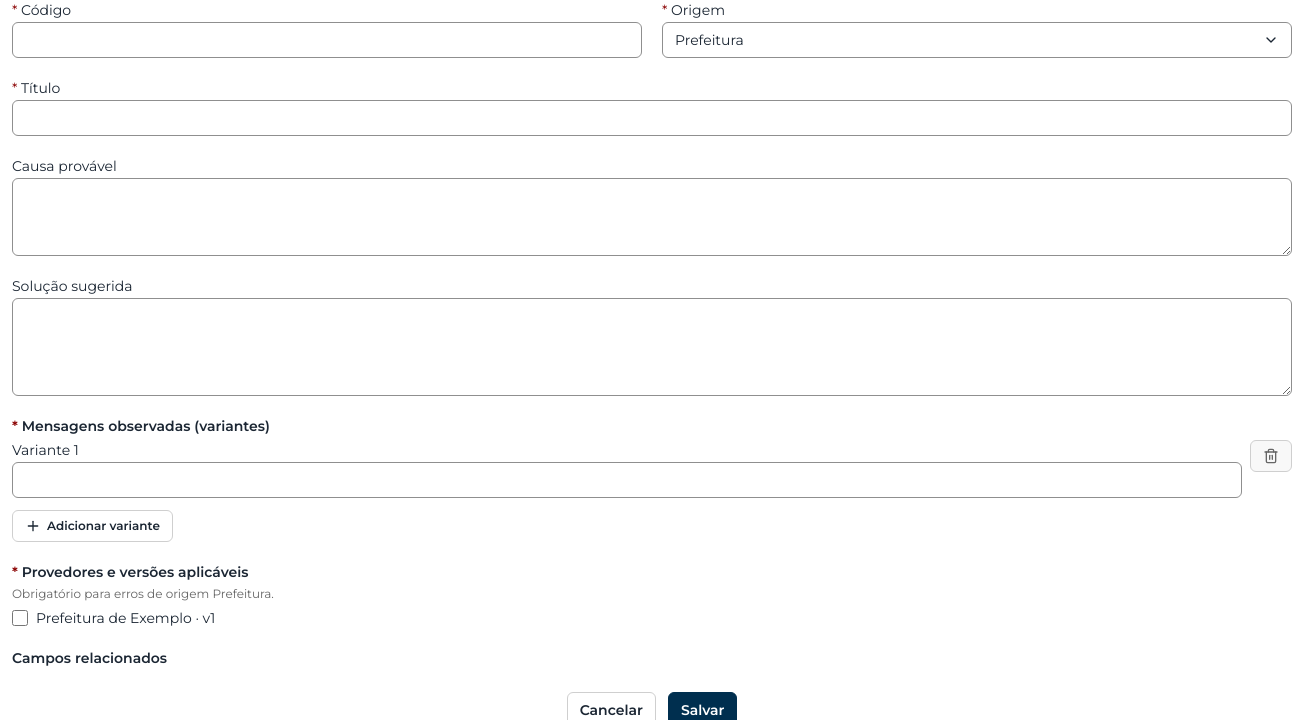
it: ErroForm › trocar de Prefeitura para InvoiCy com o campo vazio não deixa erro retroativo
Type "E0117" into the field labelled "* Código" at (327, 40), box [12, 22, 642, 58]
Type "CNPJ inválido" into the field labelled "* Título" at (652, 118), box [12, 100, 1292, 136]
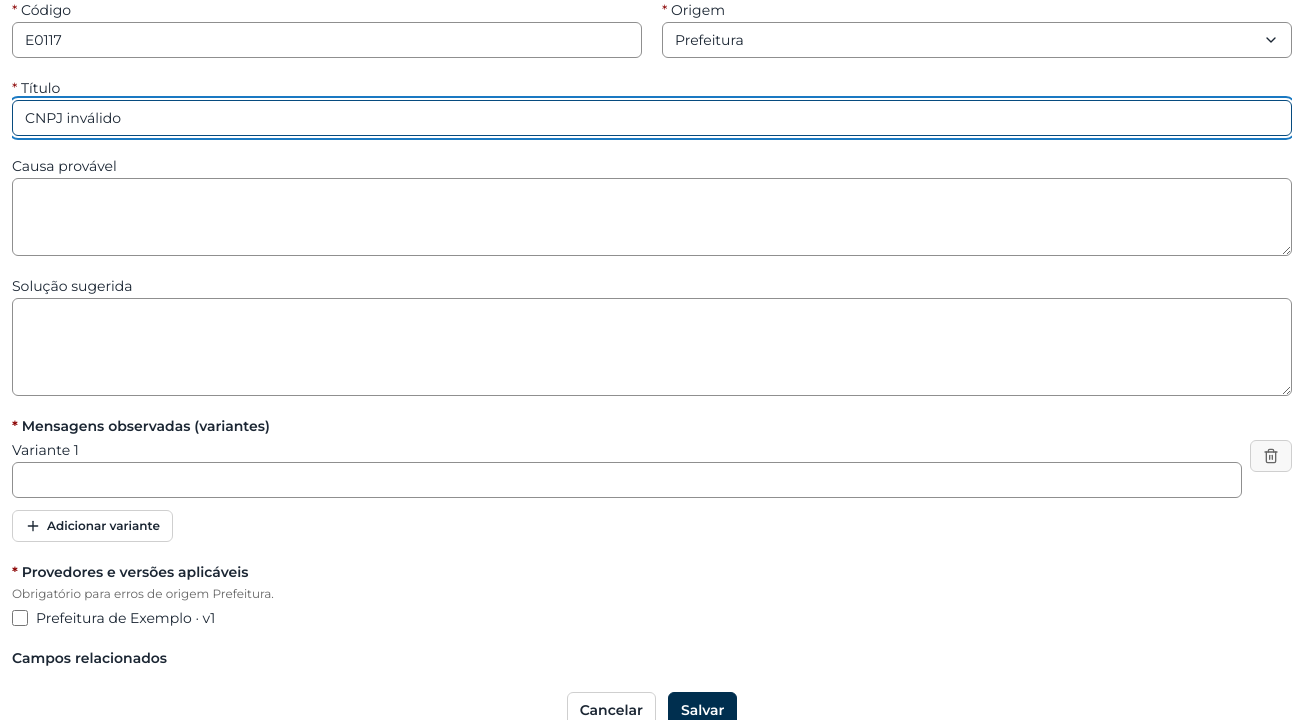
Type "O CNPJ informado não é válido." into the field labelled "Variante 1" at (627, 480), box [12, 462, 1242, 498]
(page scrolled)
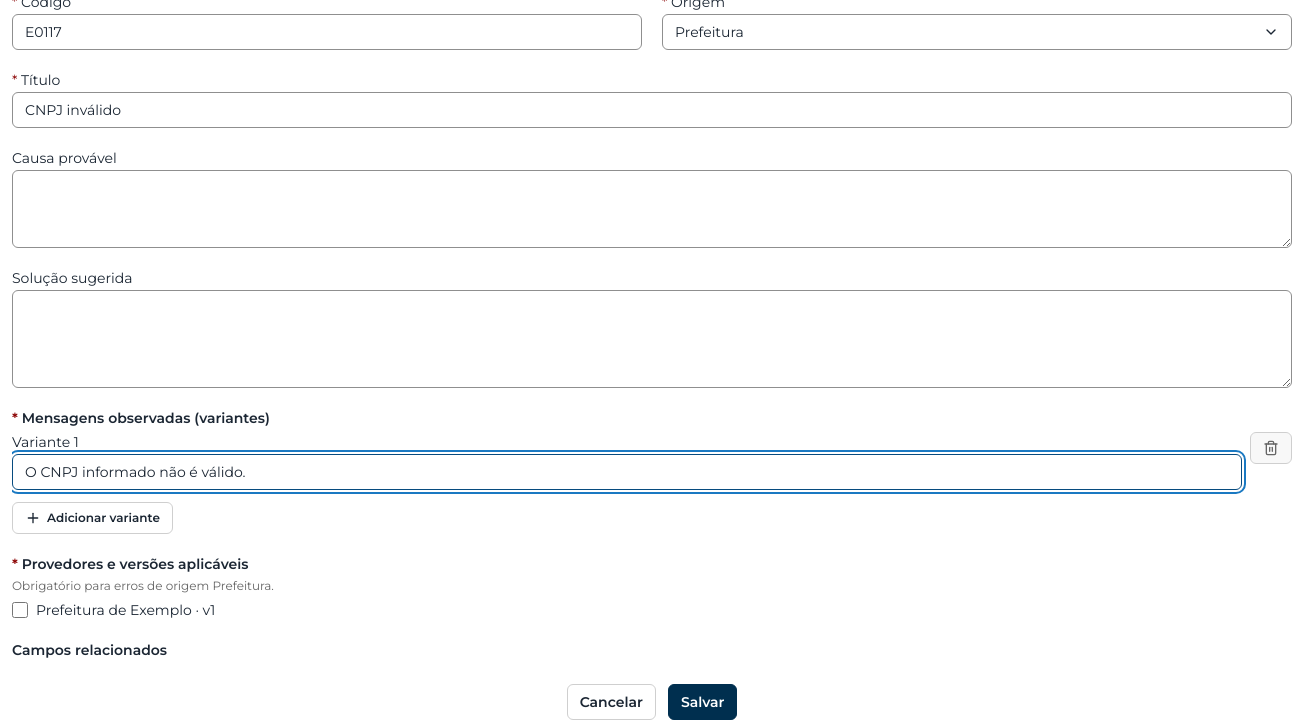
Click the button "Salvar" at (703, 702), box [668, 684, 737, 719]
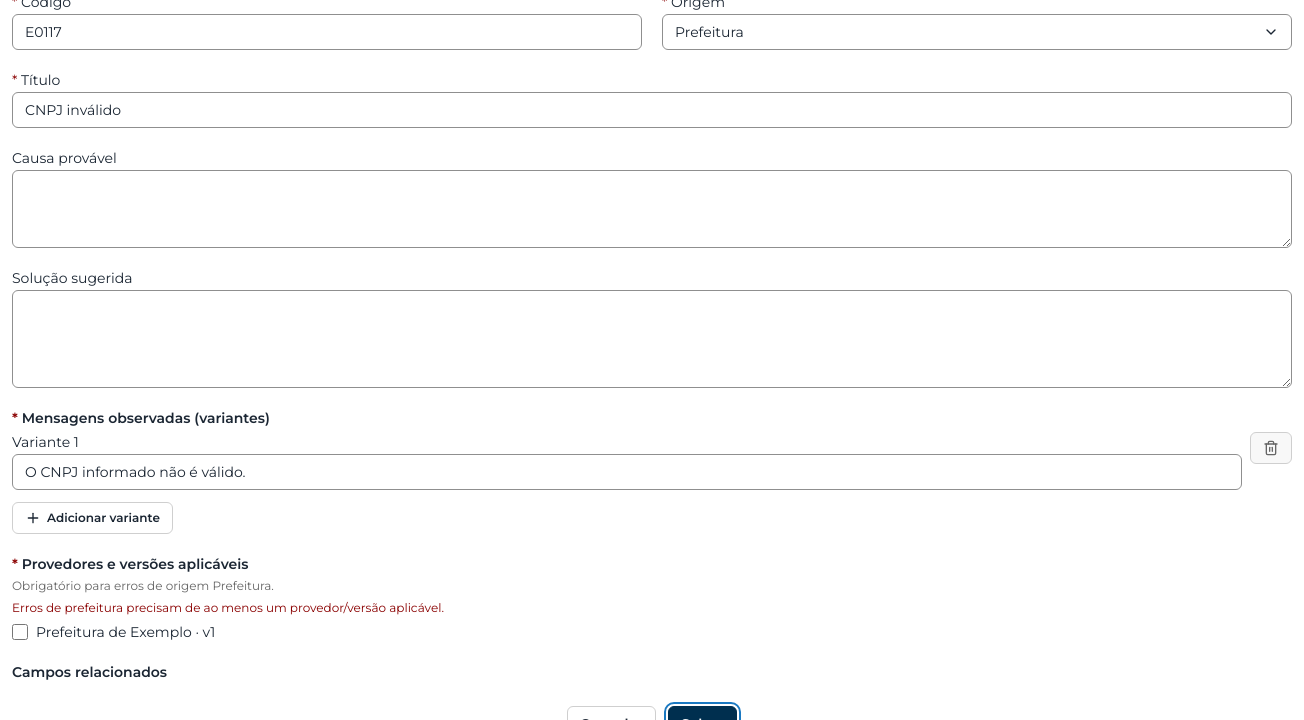
Check: the text "Erros de prefeitura precisam de ao menos um provedor/versão aplicável." is shown, box [12, 600, 444, 615]
Click the dropdown named "origem" at (709, 32), box [662, 14, 1292, 50]
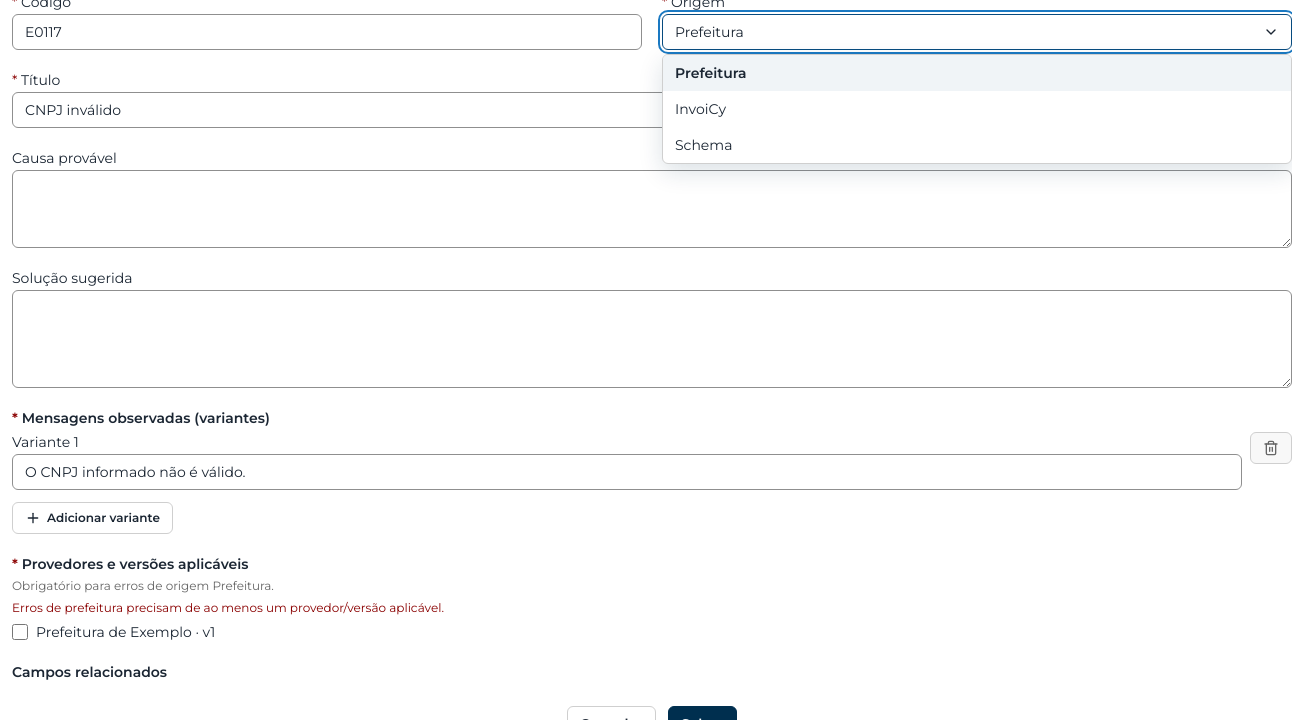
Click the option "InvoiCy" at (700, 109), box [675, 100, 726, 118]
(page scrolled)
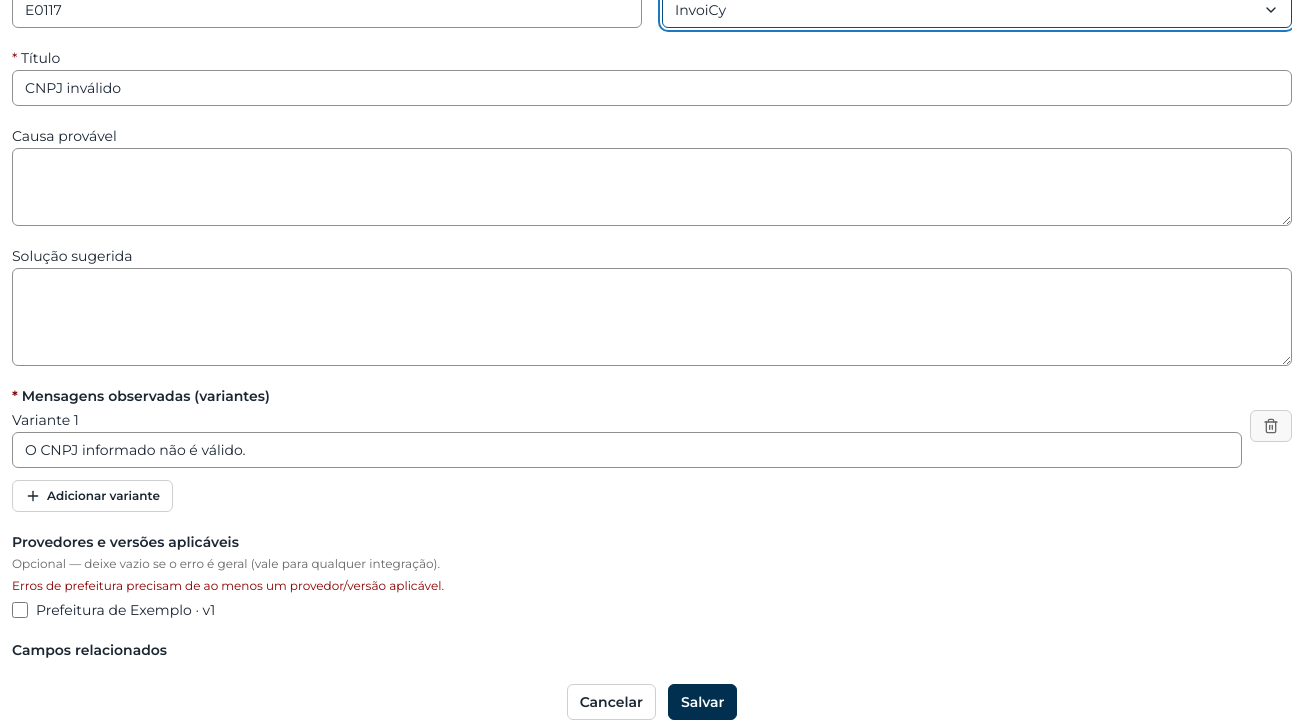
Click the button "Salvar" at (703, 702), box [668, 684, 737, 719]
(page scrolled)
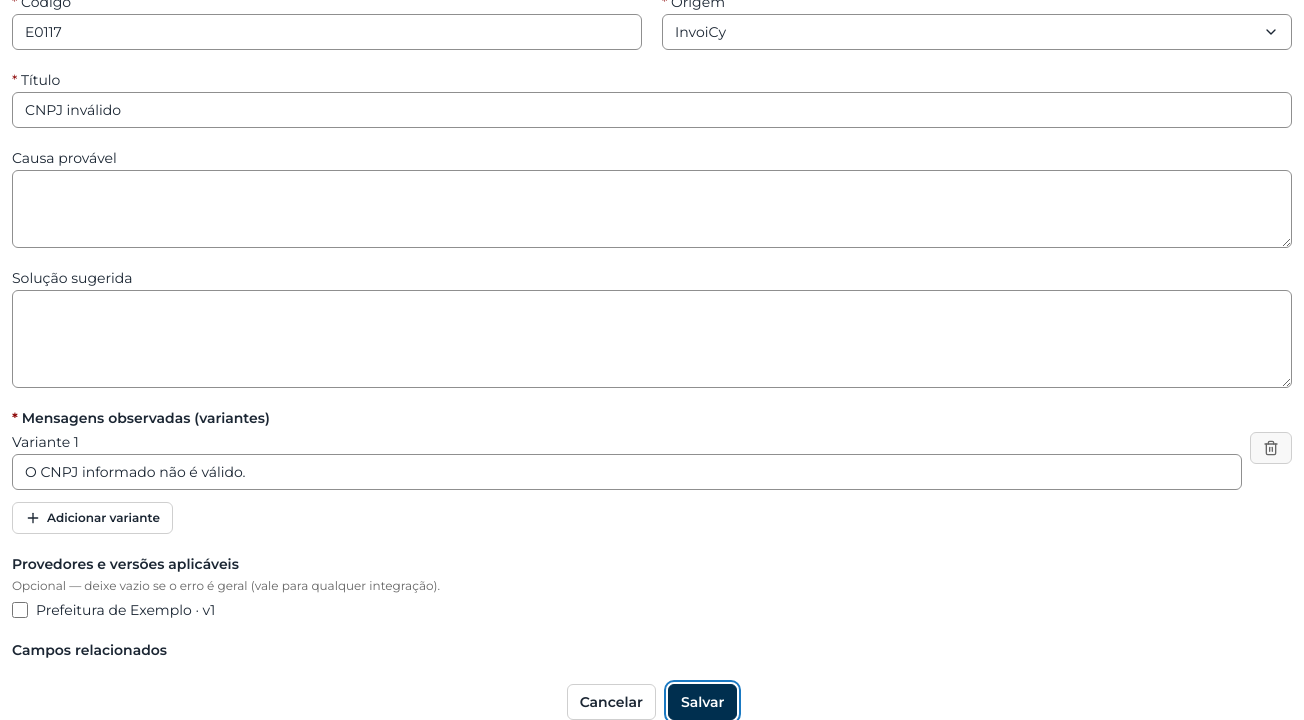
Check: the text "Erros de prefeitura precisam de ao menos um provedor/versão aplicável." is gone
